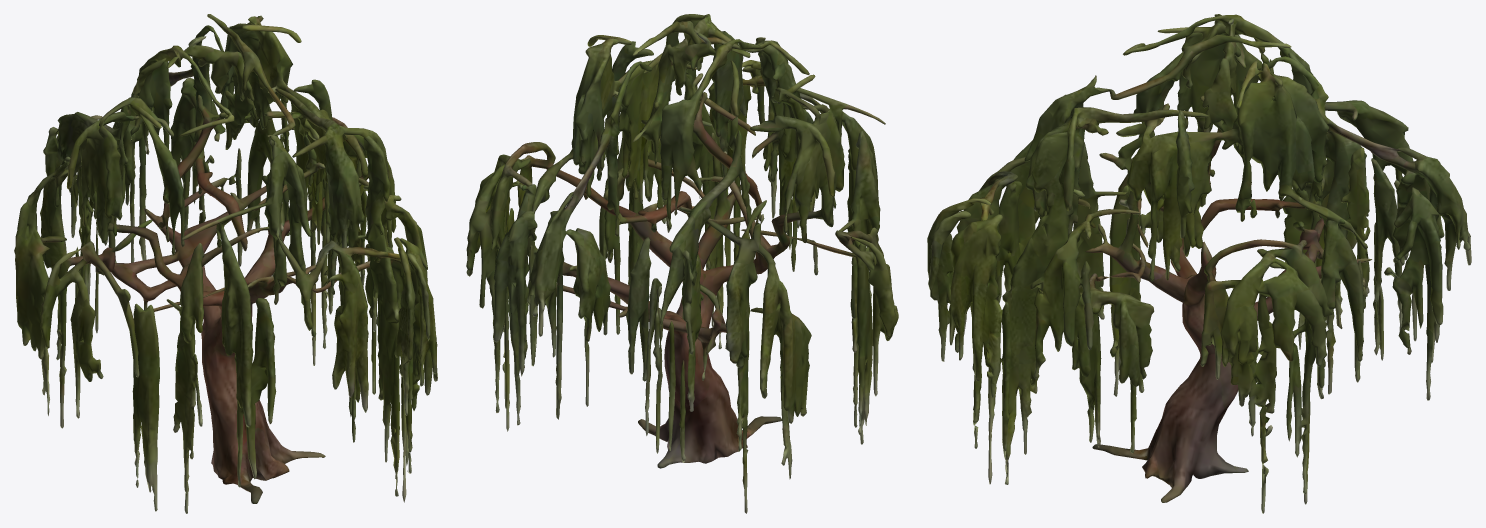
File: tree_willow.glb
3 renders of one model, left to right at view 1: azimuth 30°, elevation 25°; view 2: azimuth 150°, elevation 25°; view 3: azimuth 270°, elevation 25°, orthographic. The views are drawn at different scales.
Visible parts, largest first — view 1: tripo_node_59f5916c-28f1-4b66-8925-31f9c3626e34; view 2: tripo_node_59f5916c-28f1-4b66-8925-31f9c3626e34; view 3: tripo_node_59f5916c-28f1-4b66-8925-31f9c3626e34.
Boxes of the visible parts, left/top/right/bottom form: tripo_node_59f5916c-28f1-4b66-8925-31f9c3626e34: left=14, top=14, right=437, bottom=513; tripo_node_59f5916c-28f1-4b66-8925-31f9c3626e34: left=466, top=14, right=898, bottom=513; tripo_node_59f5916c-28f1-4b66-8925-31f9c3626e34: left=927, top=14, right=1471, bottom=513.
Bounding box in the file's own units: 0.7679 × 0.8346 × 0.9401.
1 material, 1 textured.
